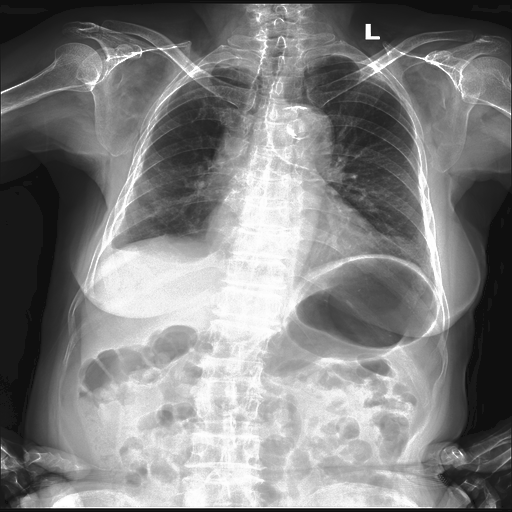Calcification: (214, 55, 260, 74), (96, 245, 122, 264)
Consolidation: (265, 104, 334, 167)
Nodule/Mass: (200, 210, 384, 260)
Pleural effusion: (96, 245, 122, 264)
